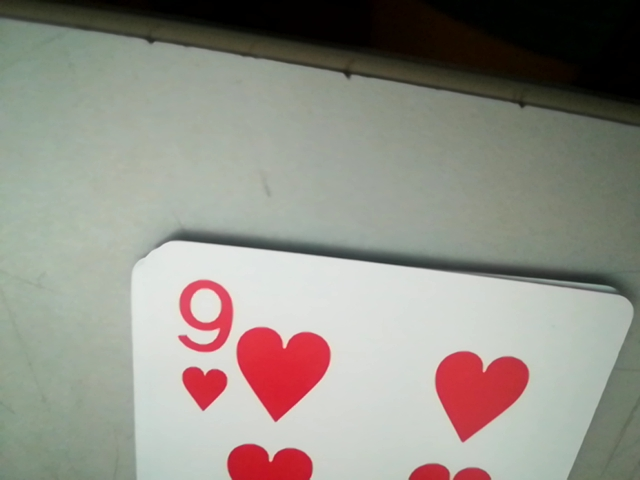hx 9: (152, 274, 237, 416)
